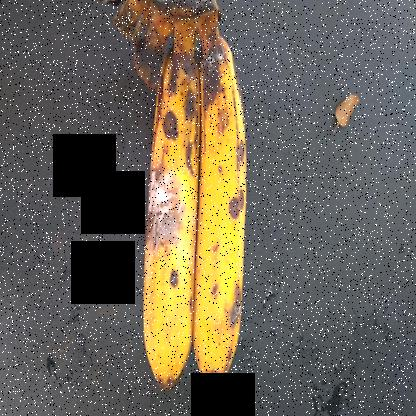ripe: (190, 45, 257, 392)
rotten: (122, 42, 213, 400)
